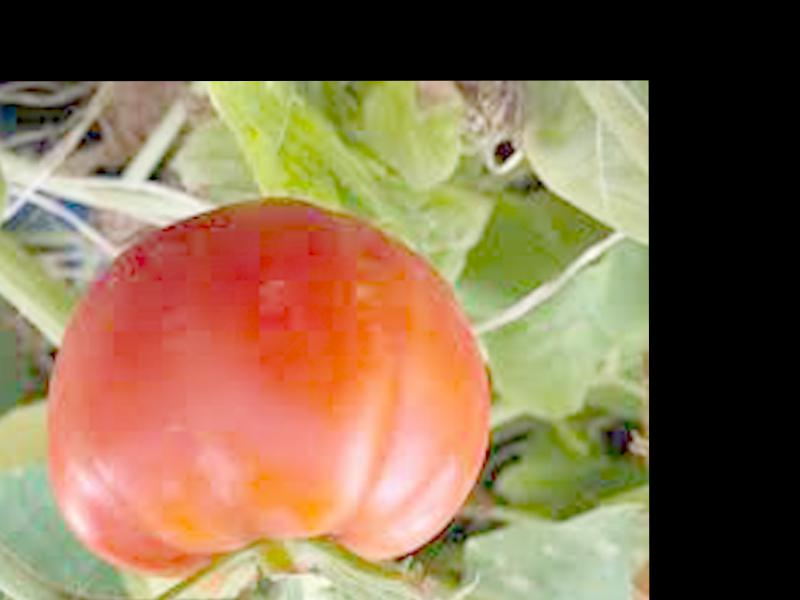Tomato: (42, 202, 490, 577)
